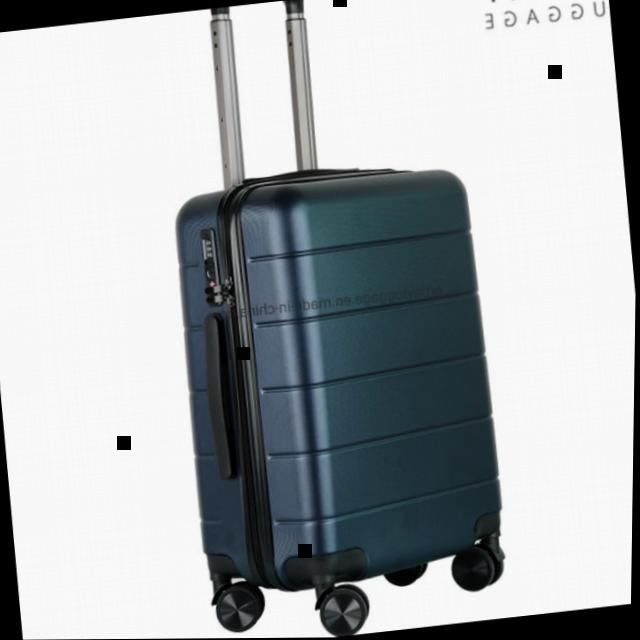luggage: (156, 145, 523, 603)
